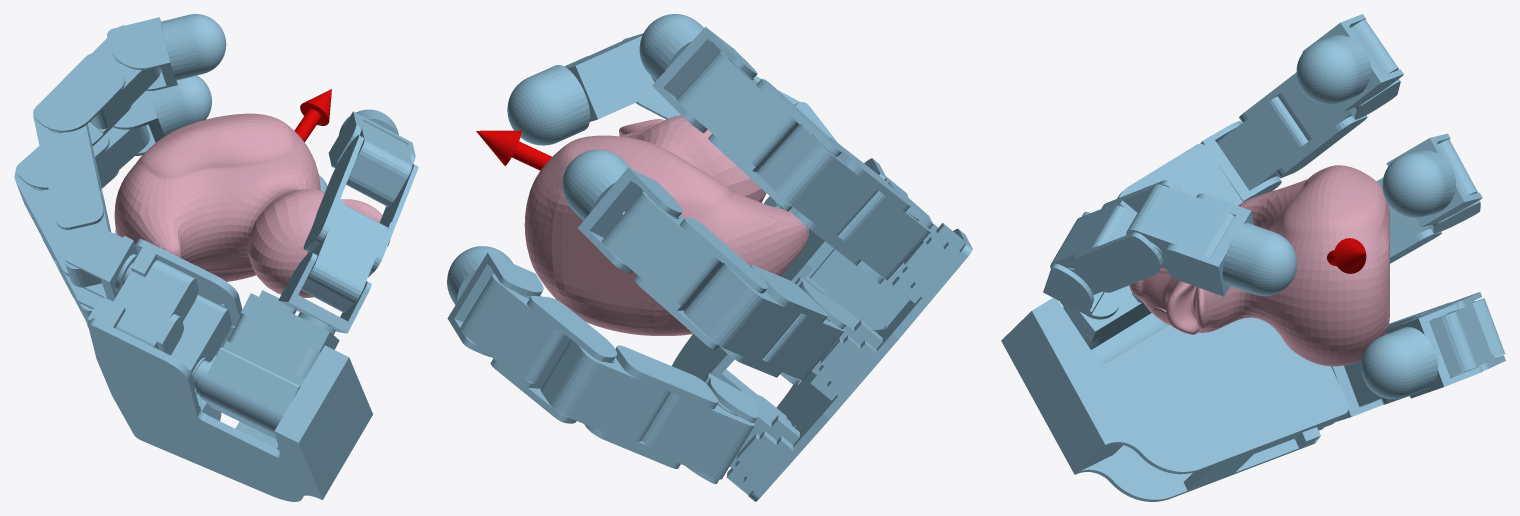
3 views of the same model, side by side, from view 1: azimuth 30°, elevation 25°; view 2: azimuth 150°, elevation 25°; view 3: azimuth 270°, elevation 25° (orthographic). The views are drawn at different scales.
Visible parts, largest first — view 1: world, rubber_duck.stl; view 2: world, rubber_duck.stl; view 3: world, rubber_duck.stl.
Boxes of the visible parts, box(x1,y1,x2,y2) form: world: box(14, 14, 418, 501); rubber_duck.stl: box(114, 113, 390, 297); world: box(447, 14, 972, 501); rubber_duck.stl: box(524, 115, 808, 335); world: box(1001, 14, 1505, 501); rubber_duck.stl: box(1129, 165, 1389, 366).
Size of the model in its own units: 0.1588 by 0.1864 by 0.1853.
